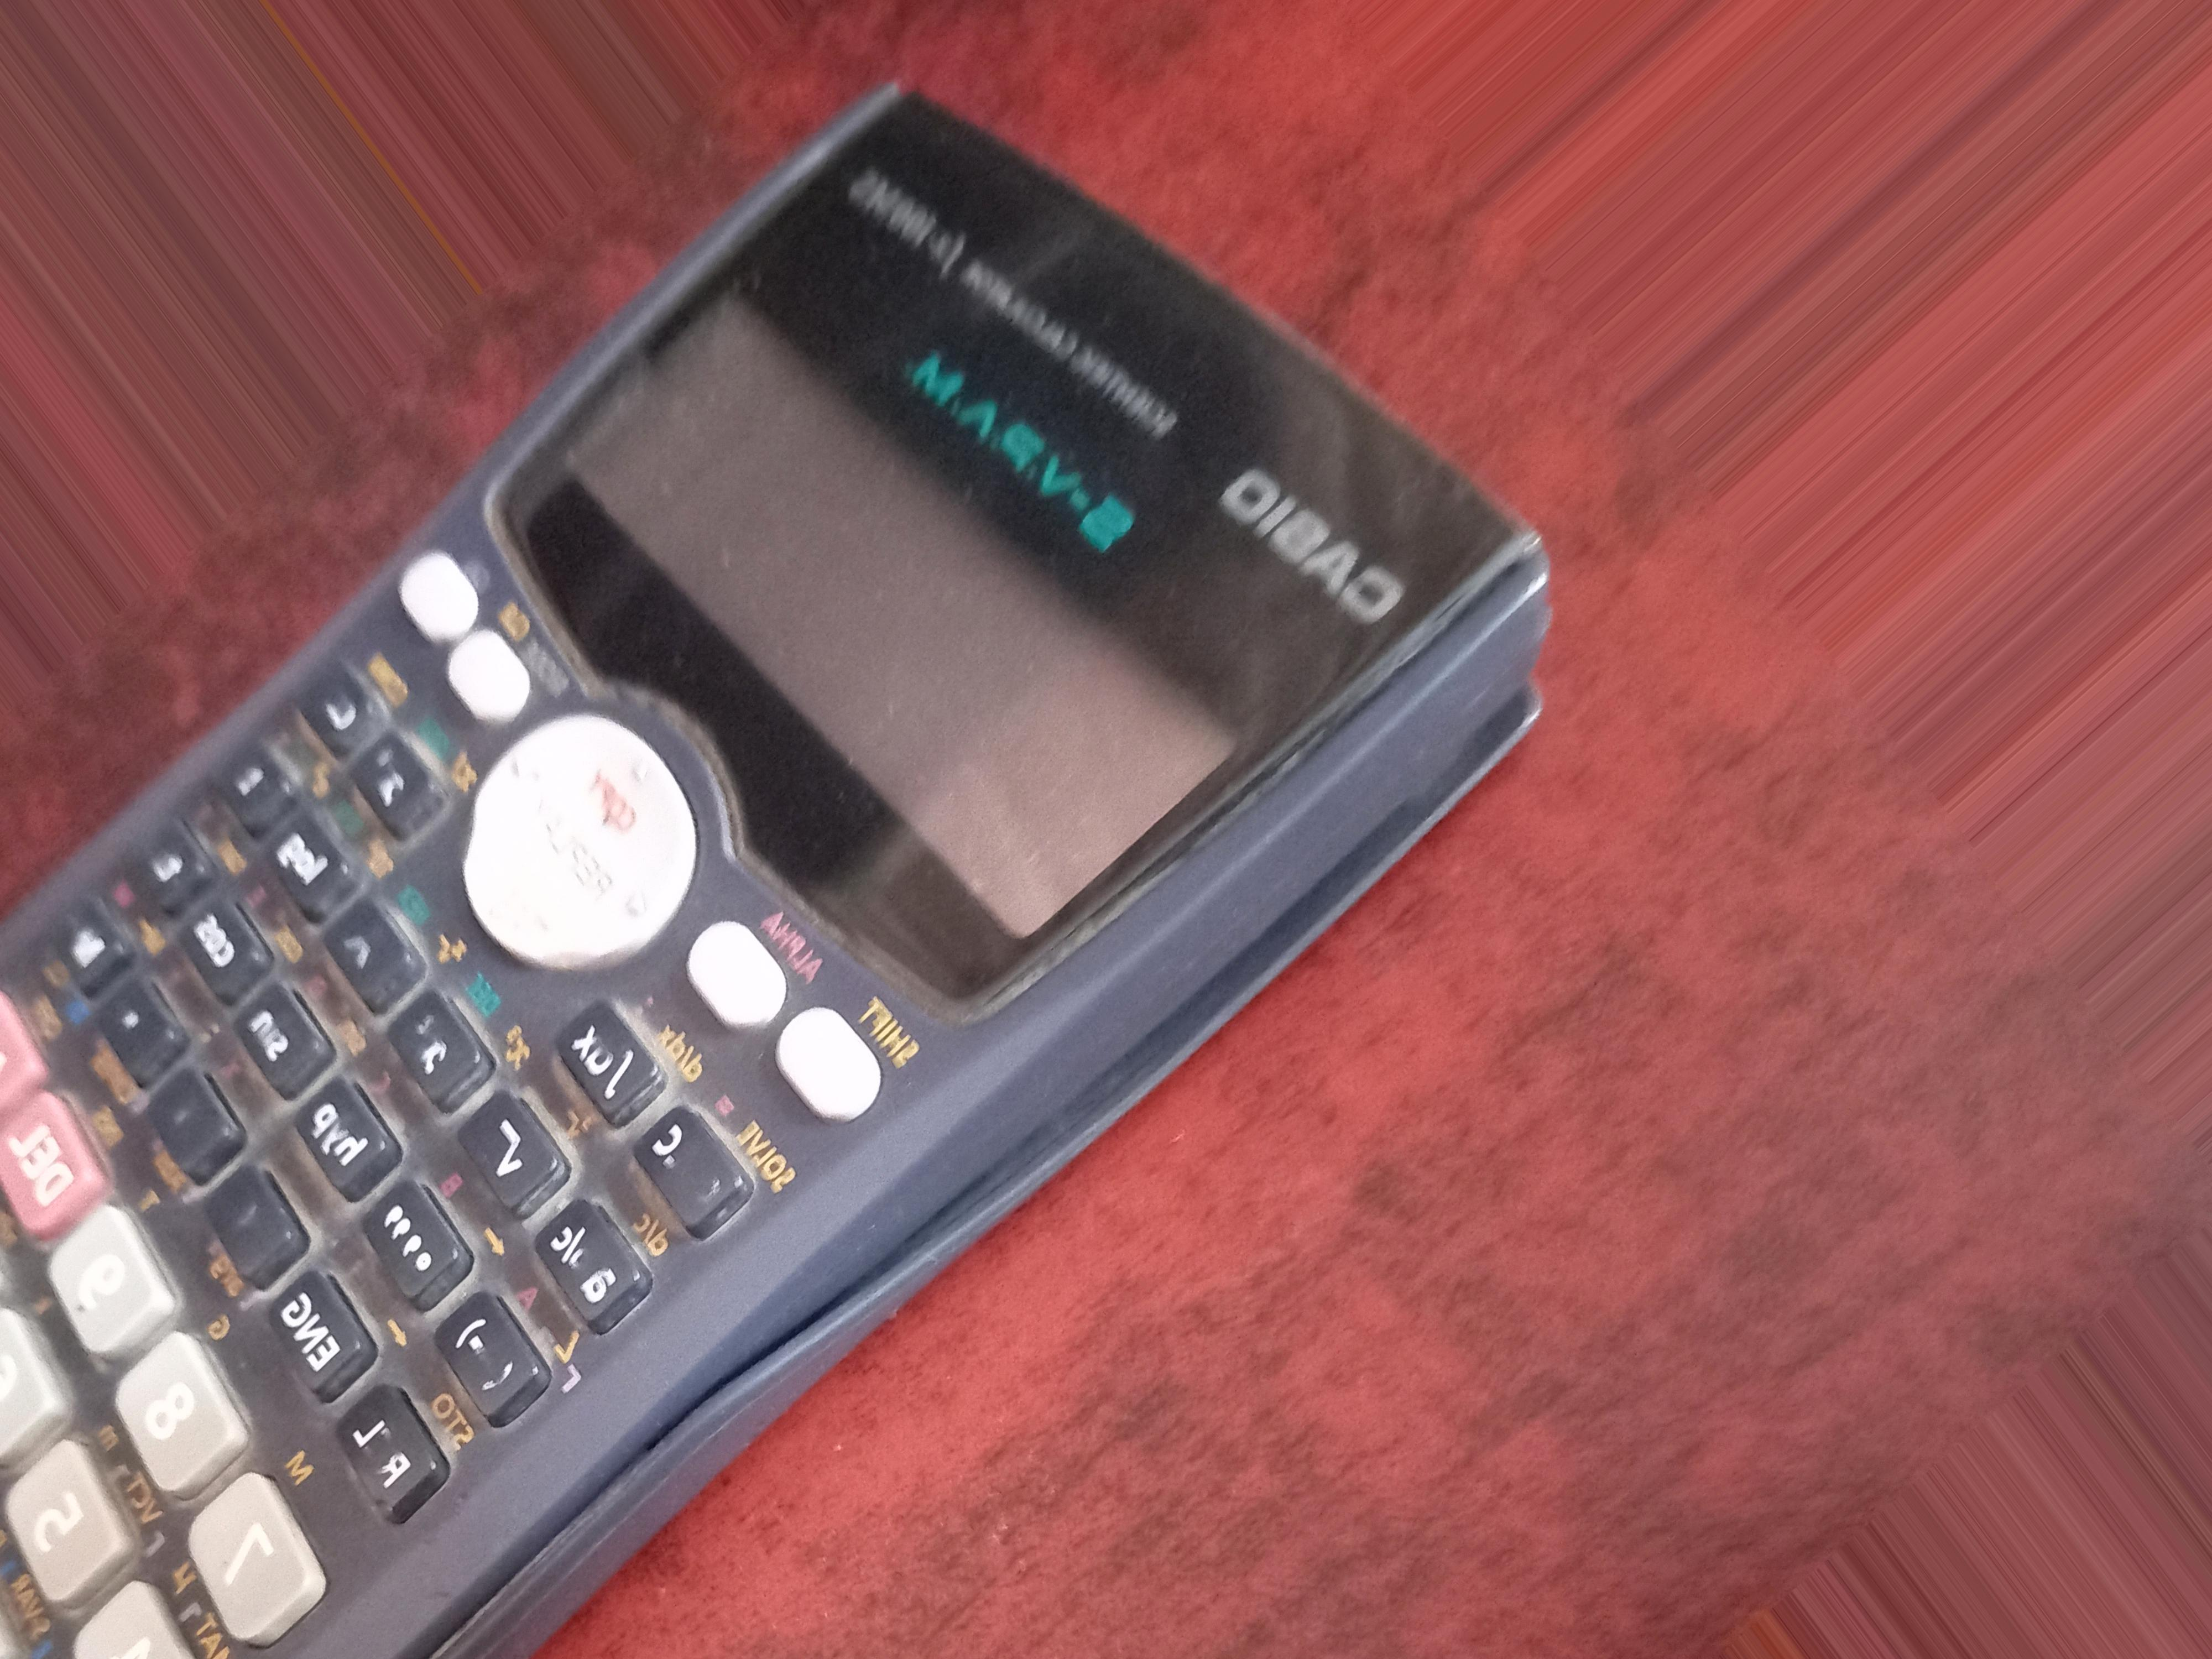calculator: (0, 627, 1543, 1659)
